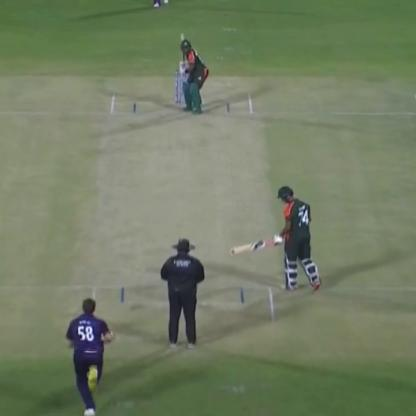bat: (230, 234, 281, 262), (177, 23, 191, 86)
pitch: (90, 85, 284, 336)
